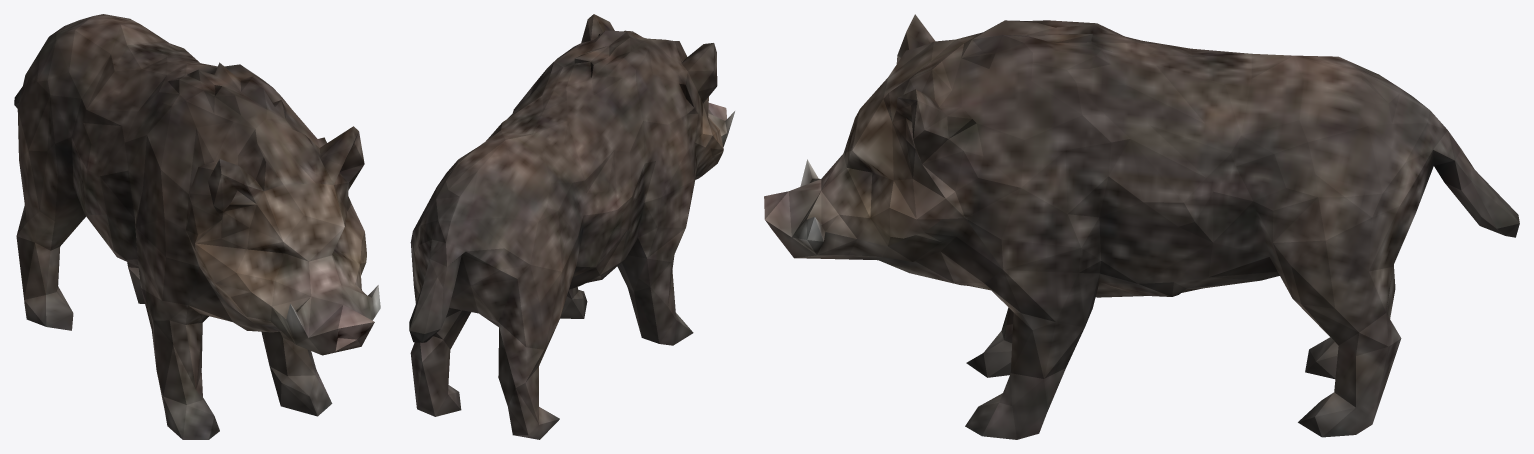
The model's file is r32_tier_wildschwein.glb.
3 views of the same model, side by side, from view 1: azimuth 30°, elevation 25°; view 2: azimuth 150°, elevation 25°; view 3: azimuth 270°, elevation 25° (orthographic). The views are drawn at different scales.
Visible parts, largest first — view 1: wildschwein; view 2: wildschwein; view 3: wildschwein.
Boxes of the visible parts, left/top/right/bottom form: wildschwein: left=14, top=14, right=380, bottom=439; wildschwein: left=409, top=14, right=734, bottom=439; wildschwein: left=764, top=14, right=1519, bottom=439.
Size of the model in its own units: 0.5369 by 1 by 1.85.
1 material, 1 textured.
